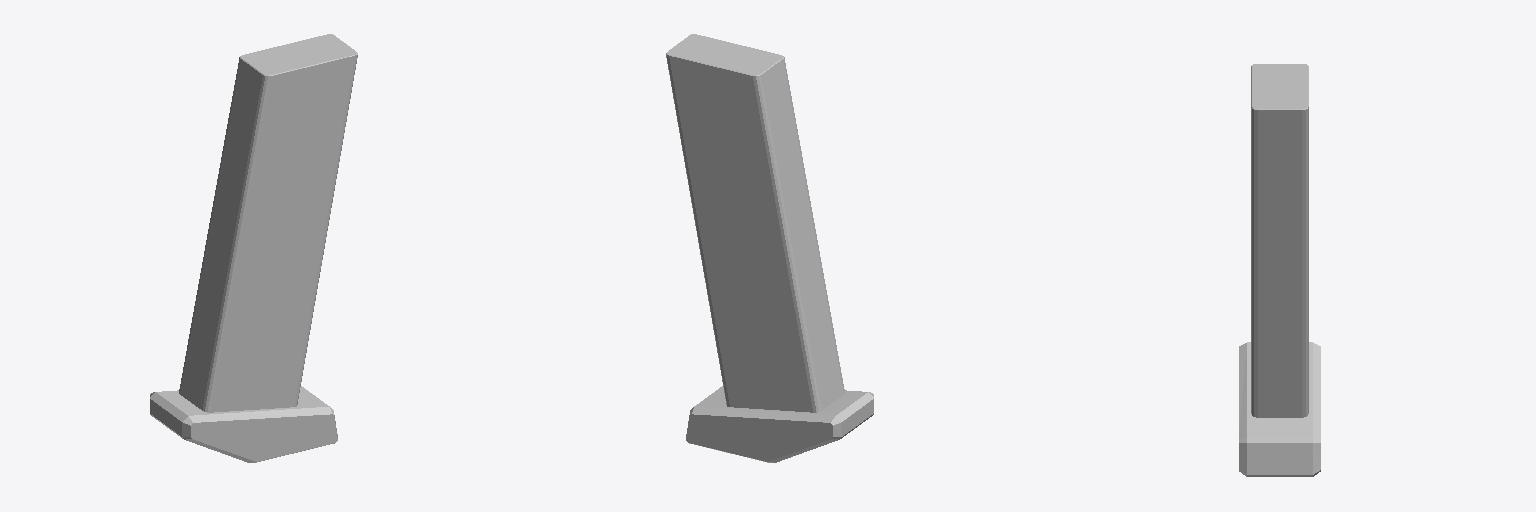
Rendered from Magnum_Mag.obj.
3 renders of one model, left to right at view 1: azimuth 30°, elevation 25°; view 2: azimuth 150°, elevation 25°; view 3: azimuth 270°, elevation 25°, orthographic.
Parts seen in each view (by area): view 1: default:default.001_default:default.001; view 2: default:default.001_default:default.001; view 3: default:default.001_default:default.001.
Part boxes in pixels (bbox=[...]): default:default.001_default:default.001: bbox=[150, 34, 357, 462]; default:default.001_default:default.001: bbox=[666, 34, 873, 462]; default:default.001_default:default.001: bbox=[1239, 64, 1320, 476].
Size of the model in its own units: 0.0936 by 0.1895 by 0.0373.